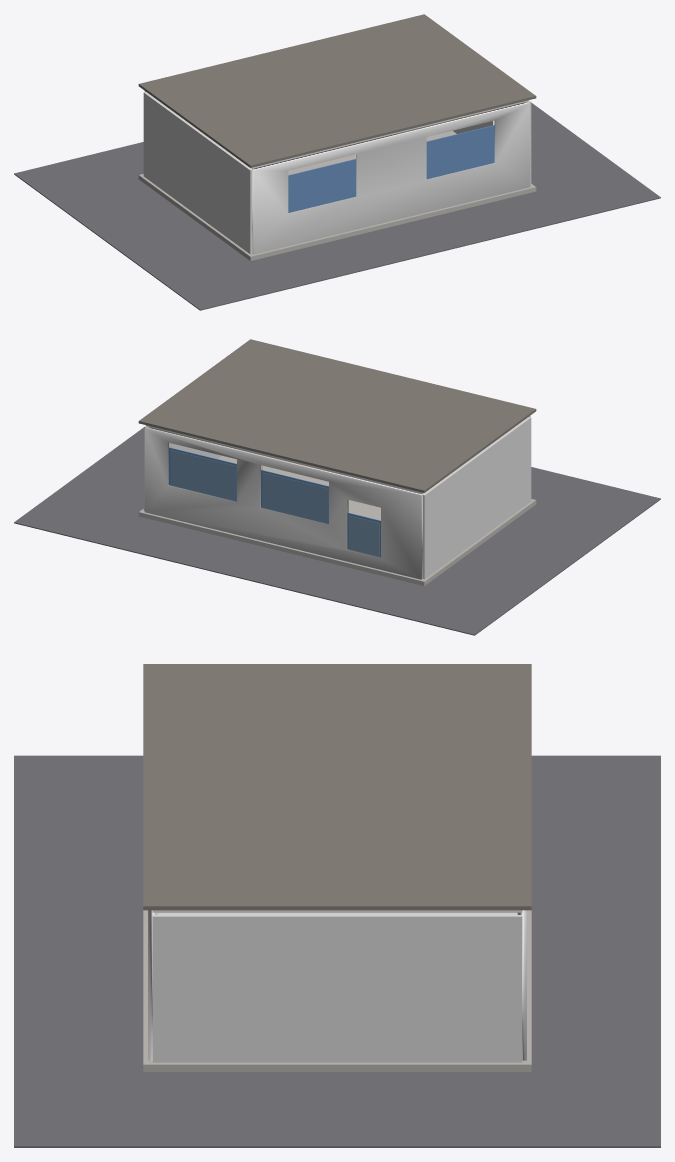
File: store_supermarket.glb
3 views of the same model, one above another, from view 1: azimuth 30°, elevation 25°; view 2: azimuth 150°, elevation 25°; view 3: azimuth 270°, elevation 25° (orthographic). The views are drawn at different scales.
Parts seen in each view (by area): view 1: ground, roof, back_wall, left_wall, frame (×2), foundation, floor, ceiling; view 2: ground, roof, front_wall, left_wall, frame (×3), glass (×3), foundation, floor, ceiling; view 3: ground, roof, right_wall, foundation, ceiling, front_wall, back_wall.
Boxes of the visible parts, x1,y1,x2,y2 form: ground: (14, 103, 660, 310); roof: (138, 14, 536, 167); back_wall: (252, 101, 530, 254); left_wall: (143, 92, 254, 254); frame (×2): (288, 125, 494, 212); foundation: (138, 174, 536, 260); floor: (288, 131, 456, 175); ceiling: (252, 100, 528, 168); ground: (14, 428, 660, 635); roof: (138, 339, 536, 492); front_wall: (144, 427, 422, 579); left_wall: (421, 417, 531, 579); frame (×3): (168, 447, 380, 557); glass (×3): (170, 450, 379, 557); foundation: (138, 499, 536, 585); floor: (218, 456, 380, 520); ceiling: (146, 425, 422, 493); ground: (14, 755, 660, 1147); roof: (143, 664, 531, 910); right_wall: (152, 913, 522, 1062); foundation: (143, 910, 531, 1071); ceiling: (152, 910, 522, 912); front_wall: (517, 910, 526, 1060); back_wall: (148, 910, 157, 1060).
Size of the model in its own units: 20 by 4 by 14.
